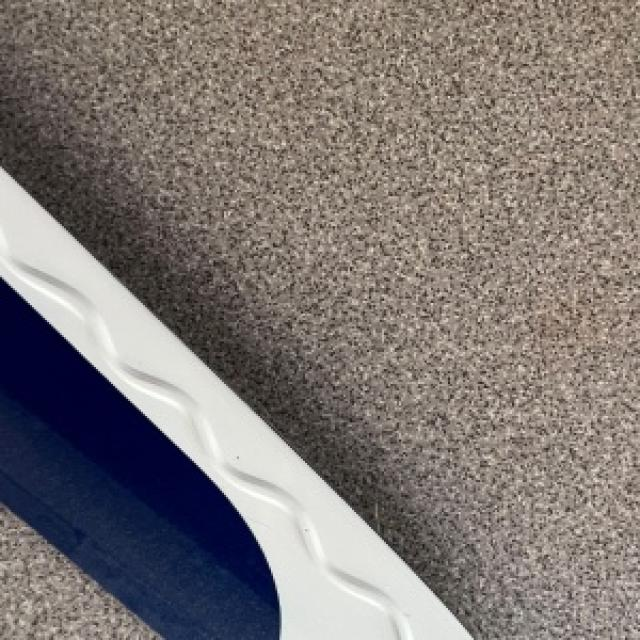healthy: (0, 164, 471, 638), (0, 173, 465, 638), (0, 512, 151, 638)
